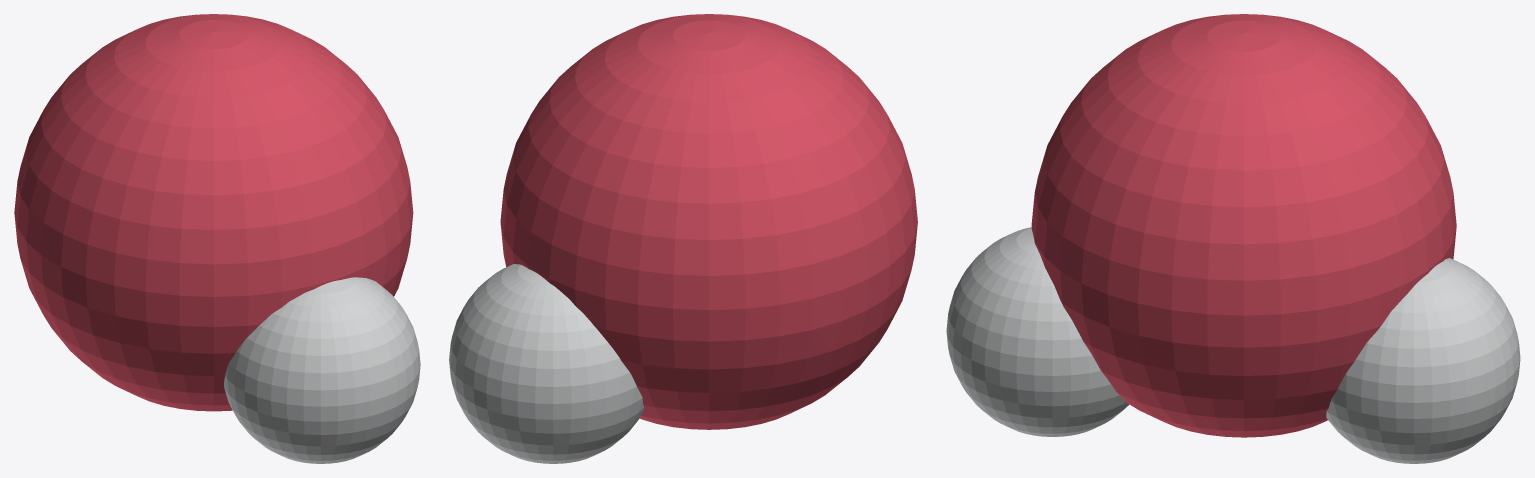
Rendered from h2o_molecules.glb.
3 renders of one model, left to right at view 1: azimuth 30°, elevation 25°; view 2: azimuth 150°, elevation 25°; view 3: azimuth 270°, elevation 25°, orthographic. The views are drawn at different scales.
Visible parts, largest first — view 1: Mesh_Mesh_head_geo.001_lambert2SG.001; view 2: Mesh_Mesh_head_geo.001_lambert2SG.001; view 3: Mesh_Mesh_head_geo.001_lambert2SG.001.
Boxes of the visible parts, x1=… form: Mesh_Mesh_head_geo.001_lambert2SG.001: x1=14, y1=14, x2=420, y2=463; Mesh_Mesh_head_geo.001_lambert2SG.001: x1=449, y1=14, x2=917, y2=463; Mesh_Mesh_head_geo.001_lambert2SG.001: x1=946, y1=14, x2=1520, y2=463.
Size of the model in its own units: 20 by 20 by 27.
